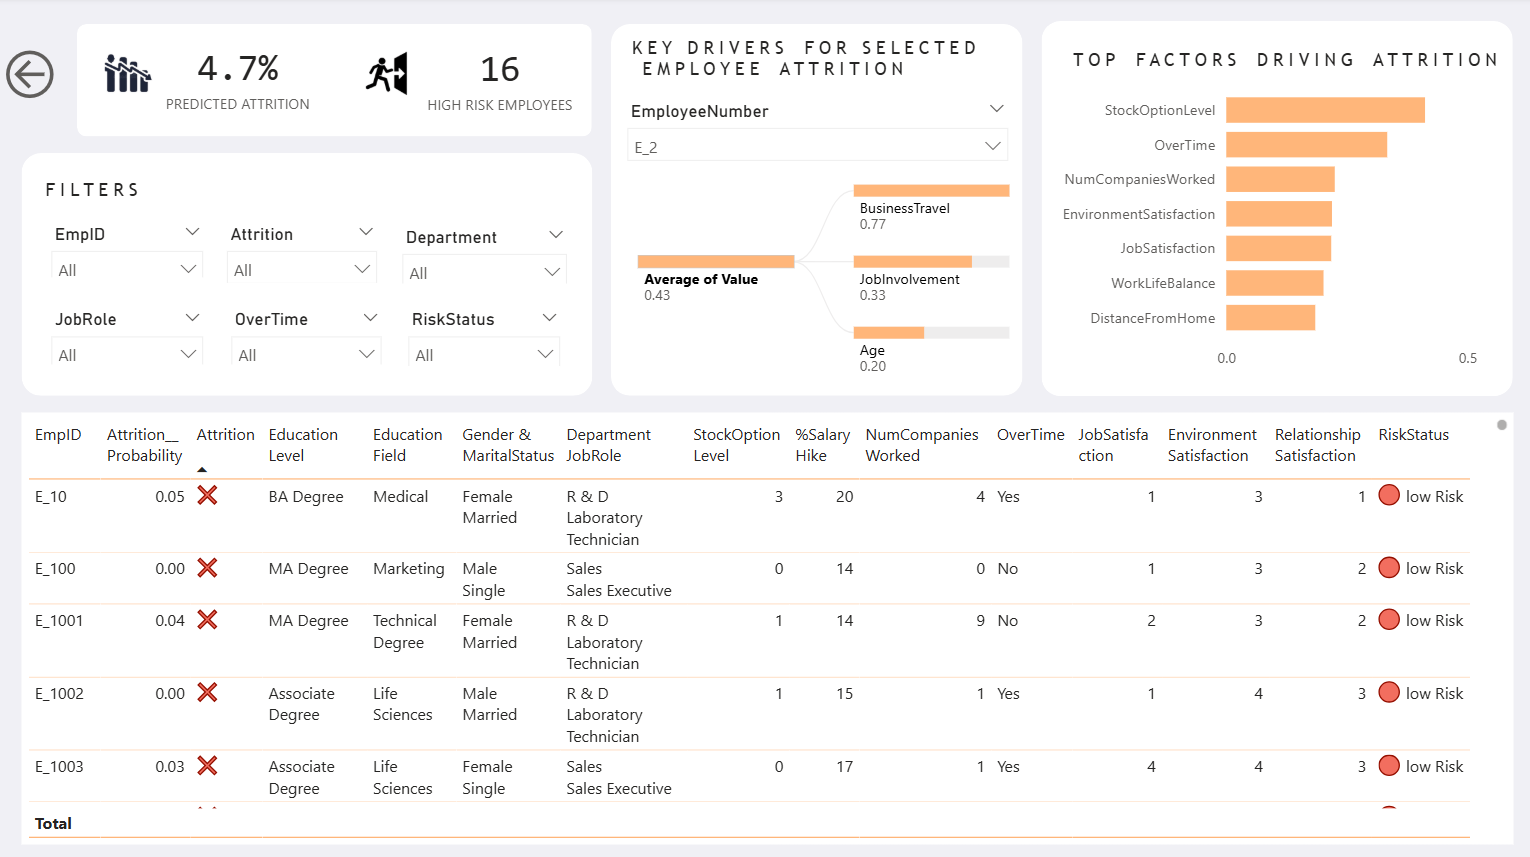

The page's visual inventory and layout, read from the dashboard file:
{"tool":"powerbi","page":{"name":"Employee Risk insights->","canvas":[1280,720],"ordinal":1},"visuals":[{"type":"tableEx","fields":{"Values":["HR_Data.Employee_No","attrition_with_probabilities.Attrition_Probability","HR_Data.Attrition","HR_Data.Education Level","HR_Data.EducationField","HR_Data.Gender & MaritalStatus","HR_Data.Department JobRole","HR_Data.StockOptionLevel","Sum(HR_Data.PercentSalaryHike)","HR_Data.NumCompaniesWorked","HR_Data.OverTime","HR_Data.JobSatisfaction"]},"box":[18.2,346.8,1246.2,360.4],"z":0},{"type":"shape","box":[18.2,130.2,477,202.9],"z":1000},{"type":"shape","box":[65.1,22.7,430,93.9],"z":2000},{"type":"shape","box":[870.7,19.7,393.7,313.4],"z":3000},{"type":"shape","box":[511.8,22.7,343.7,310.4],"z":4000},{"type":"clusteredBarChart","fields":{"Category":["df_global.TopFeature"],"Y":["Sum(df_global.Mean_SHAP_Value)"]},"box":[870.7,59.1,408.8,260.4],"z":5000},{"type":"textbox","box":[891.9,37.9,387.6,42.4],"z":6000},{"type":"card","fields":{"Values":["attrition_with_probabilities.Measure 2"]},"box":[124.2,18.2,156,93.9],"z":7000},{"type":"image","box":[42.4,27.3,130.2,75.7],"z":8000},{"type":"card","fields":{"Values":["attrition_with_probabilities.HIGH RISK EMPLOYEES"]},"box":[325.6,21.2,184.7,90.9],"z":9000},{"type":"image","box":[242.3,36.3,119.6,54.5],"z":10000},{"type":"decompositionTreeVisual","fields":{"Analyze":["Avg(top3_attrition_factors2.Value)"],"ExplainBy":["top3_attrition_factors2.TopFeatures"]},"box":[511.8,66.6,343.7,266.5],"z":11000},{"type":"textbox","box":[523.9,27.3,330.1,53],"z":12000},{"type":"actionButton","box":[0,39.4,104.5,51.5],"z":13000},{"type":"slicer","fields":{"Values":["attrition_with_probabilities.RiskStatus"]},"box":[331.6,255.9,146.9,53],"z":14000},{"type":"textbox","box":[33.3,146.9,103,33.3],"z":15000},{"type":"slicer","fields":{"Values":["HR_Data.Department"]},"box":[327.1,186.2,157.5,53],"z":16000},{"type":"slicer","fields":{"Values":["attrition_with_probabilities.Attrition"]},"box":[180.2,184.7,145.4,54.5],"z":17000},{"type":"slicer","fields":{"Values":["HR_Data.JobRole"]},"box":[33.3,255.9,146.9,51.5],"z":18000},{"type":"slicer","fields":{"Values":["HR_Data.OverTime"]},"box":[184.7,255.9,145.4,51.5],"z":19000},{"type":"slicer","fields":{"Values":["HR_Data.EmpID"]},"box":[33.3,184.7,146.9,50],"z":20000},{"type":"slicer","fields":{"Values":["top3_attrition_factors2.EmployeeNumber"]},"box":[514.8,81.8,337.7,60.6],"z":21000}]}

Visuals, with their boxes in screenshot pixels (x1, y1, x2, y2), scaled from the page's 1280x720 canvas onto the 1530x857 screenshot:
tableEx - HR_Data.Employee_No x attrition_with_probabilities.Attrition_Probability: l=22, t=413, r=1511, b=842
shape: l=22, t=155, r=592, b=396
shape: l=78, t=27, r=592, b=139
shape: l=1041, t=23, r=1511, b=396
shape: l=612, t=27, r=1023, b=396
clusteredBarChart - df_global.TopFeature x Sum(df_global.Mean_SHAP_Value): l=1041, t=70, r=1529, b=380
textbox: l=1066, t=45, r=1529, b=96
card - attrition_with_probabilities.Measure 2: l=148, t=22, r=335, b=133
image: l=51, t=32, r=206, b=123
card - attrition_with_probabilities.HIGH RISK EMPLOYEES: l=389, t=25, r=610, b=133
image: l=290, t=43, r=433, b=108
decompositionTreeVisual - Avg(top3_attrition_factors2.Value) x top3_attrition_factors2.TopFeatures: l=612, t=79, r=1023, b=396
textbox: l=626, t=32, r=1021, b=96
actionButton: l=0, t=47, r=125, b=108
slicer - attrition_with_probabilities.RiskStatus: l=396, t=305, r=572, b=368
textbox: l=40, t=175, r=163, b=214
slicer - HR_Data.Department: l=391, t=222, r=579, b=285
slicer - attrition_with_probabilities.Attrition: l=215, t=220, r=389, b=285
slicer - HR_Data.JobRole: l=40, t=305, r=215, b=366
slicer - HR_Data.OverTime: l=221, t=305, r=395, b=366
slicer - HR_Data.EmpID: l=40, t=220, r=215, b=279
slicer - top3_attrition_factors2.EmployeeNumber: l=615, t=97, r=1019, b=169
